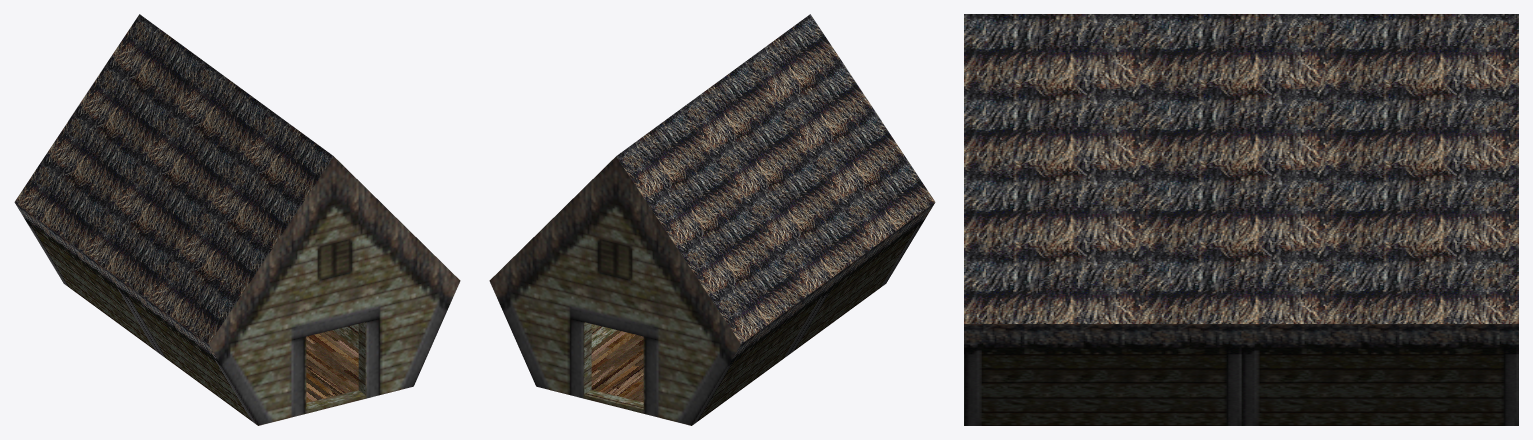
Rendered from Barn1.fbx.
3 renders of one model, left to right at view 1: azimuth 30°, elevation 25°; view 2: azimuth 150°, elevation 25°; view 3: azimuth 270°, elevation 25°, orthographic. The views are drawn at different scales.
Visible parts, largest first — view 1: BARN1; view 2: BARN1; view 3: BARN1.
Part boxes in pixels (x1,y1,x2,y2): BARN1: (14,14,460,425); BARN1: (489,14,935,425); BARN1: (964,14,1518,425).
Bounding box in the file's own units: 68.95 × 65.76 × 92.25.
